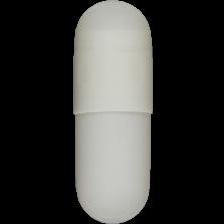0179-1804: (0, 0, 224, 224)
